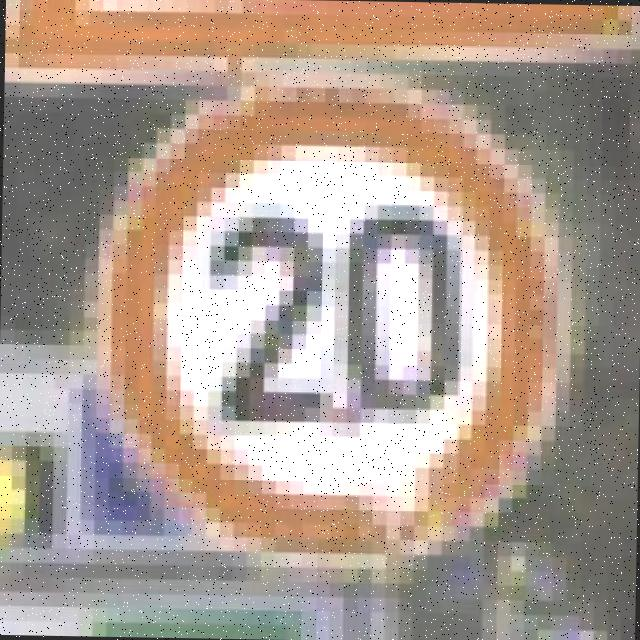Ograniczenie predkosci do 20: (38, 82, 616, 572)
